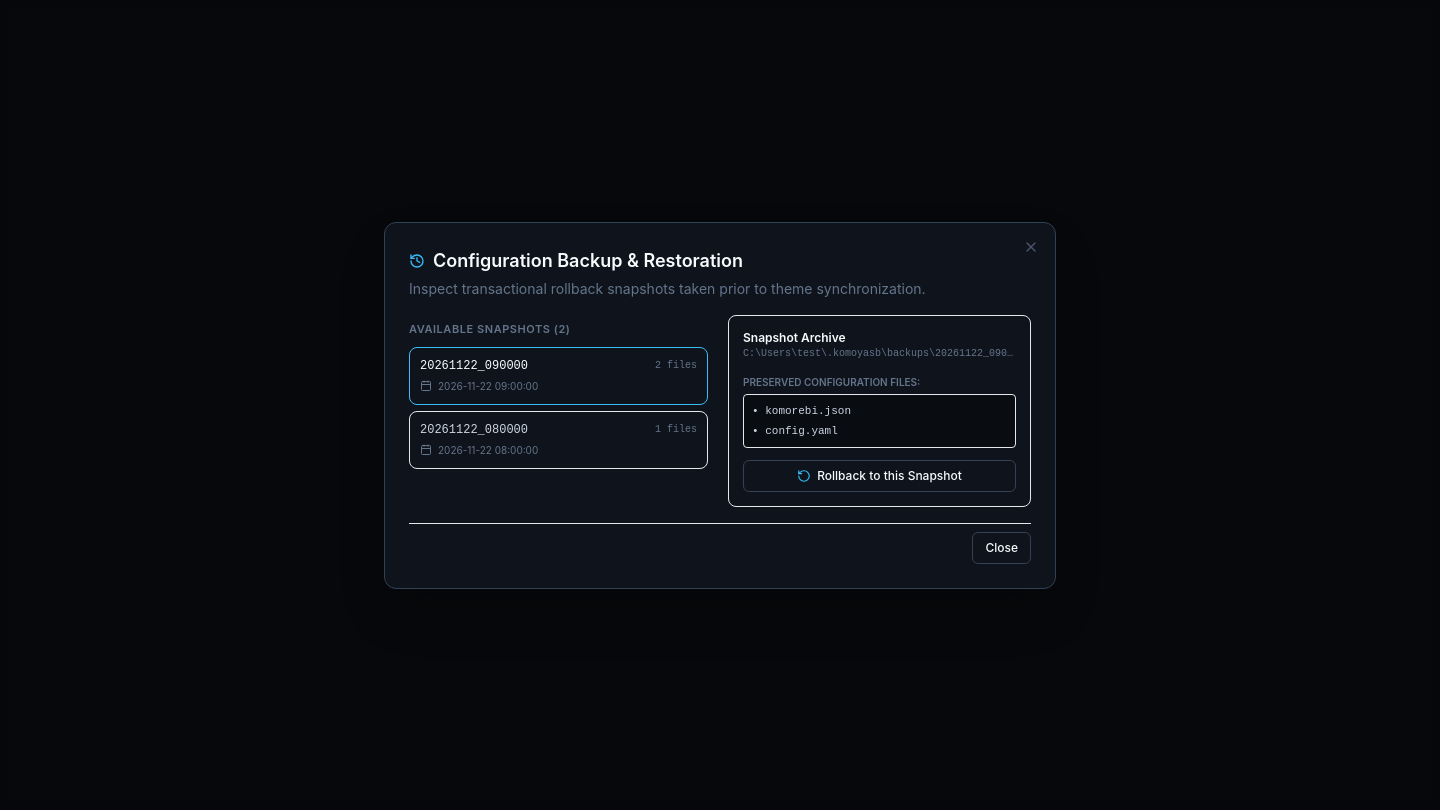
BackupRestoreModal Component › allows cancelling restore confirmation
Click the button "Rollback to this Snapshot".
click(880, 476)  # box x1=743 y1=460 x2=1016 y2=492
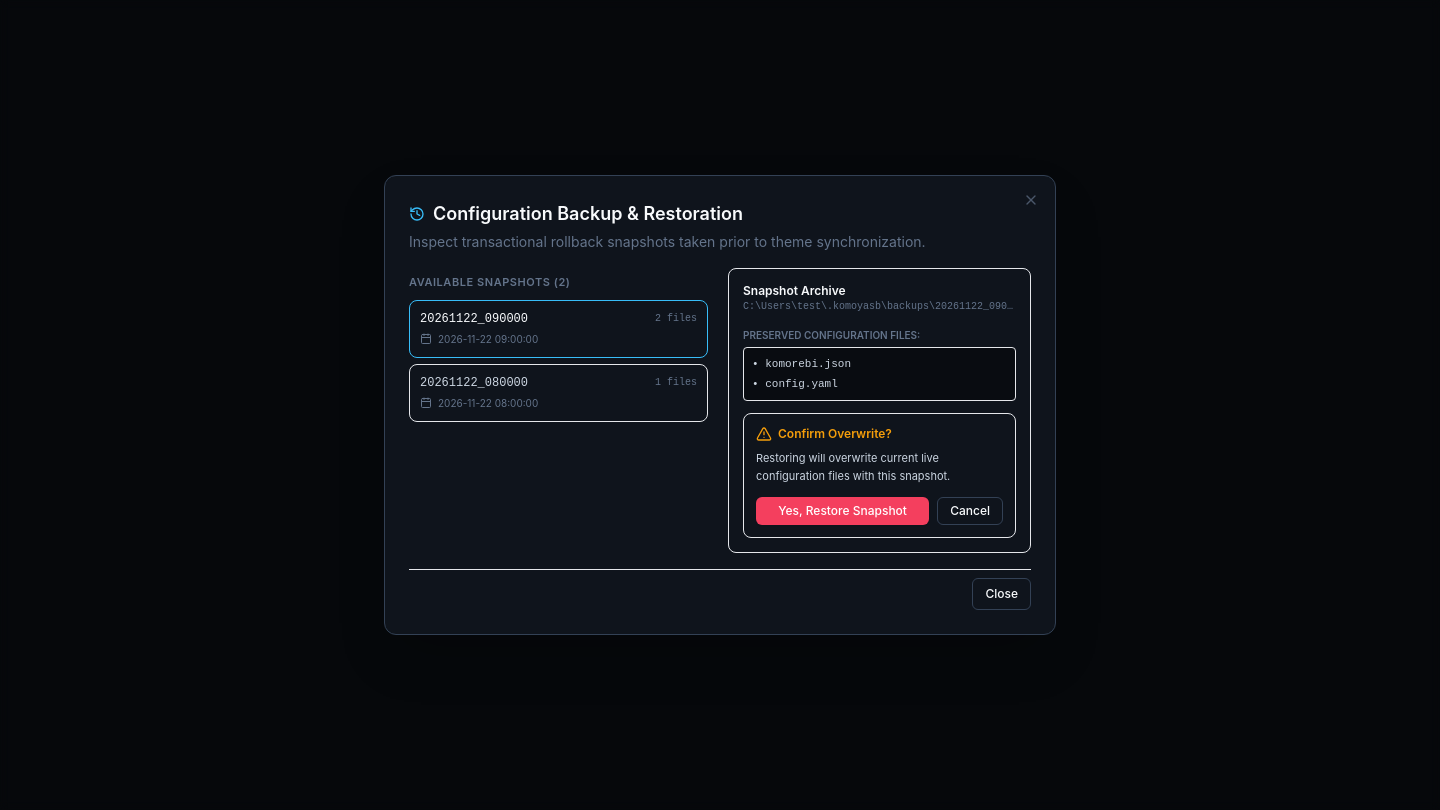
Now the text "Confirm Overwrite?" is shown, box x1=778 y1=426 x2=892 y2=442
Click the button "Cancel".
click(970, 511)  # box x1=937 y1=497 x2=1003 y2=525
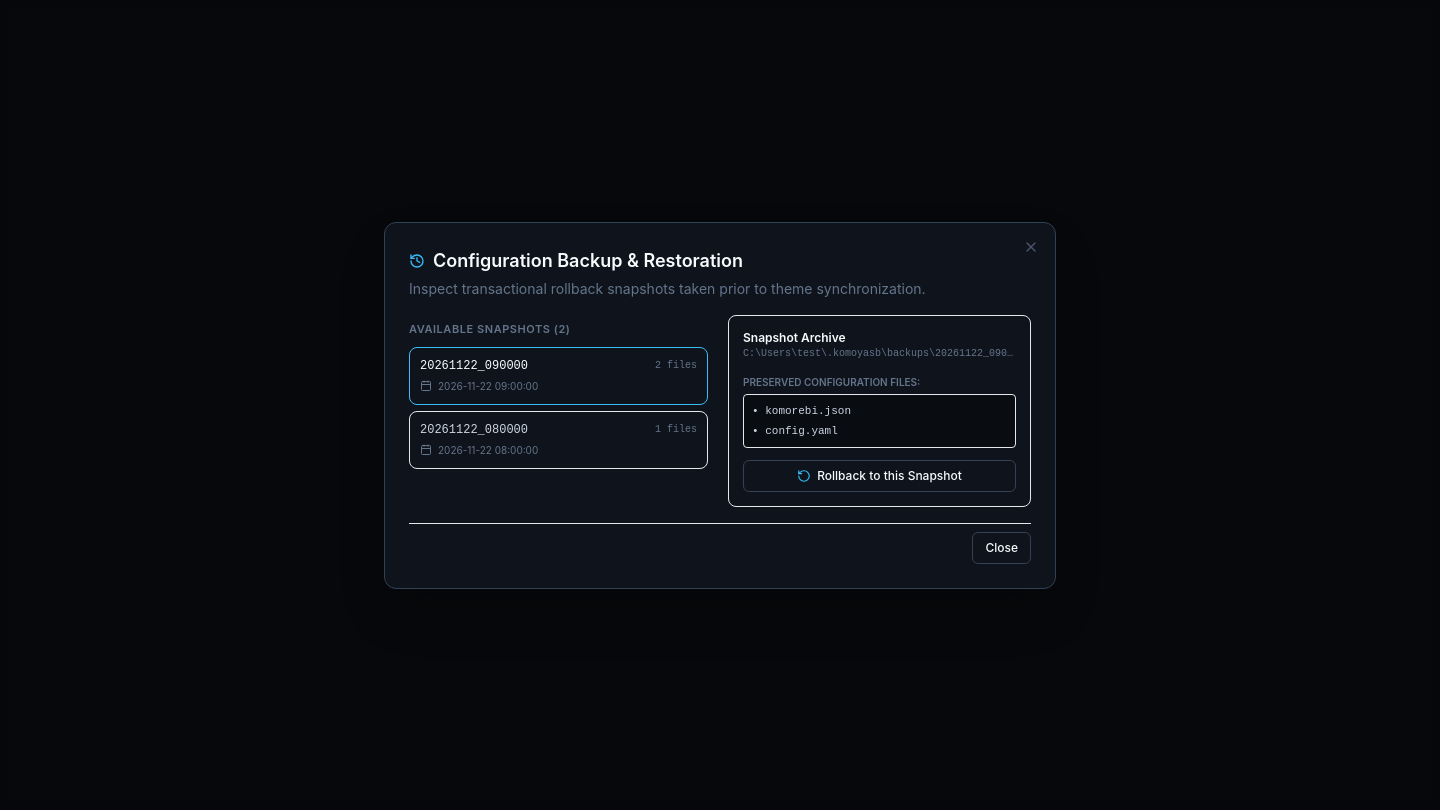
Now the text "Confirm Overwrite?" is gone
